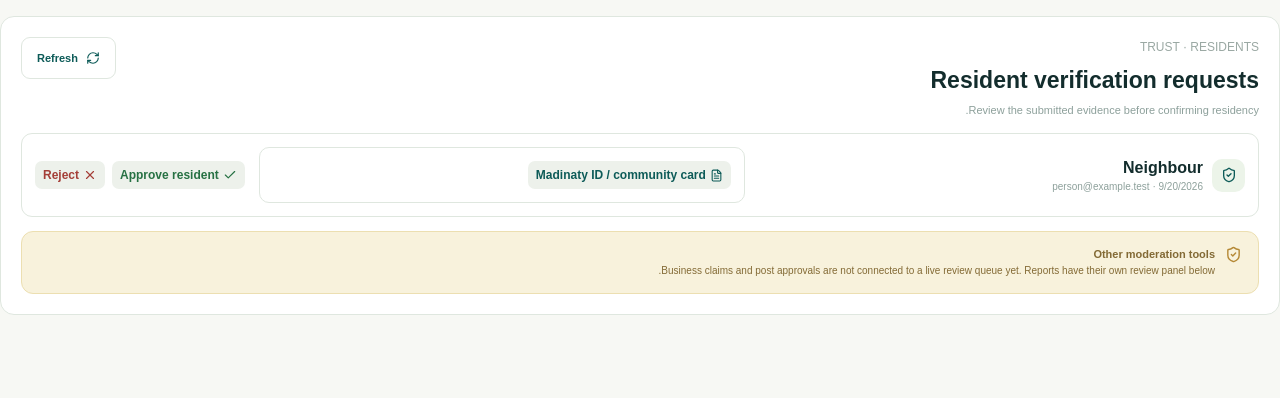
Test: admin board controls › loads pending verification requests and records a confirmed approval
Expected: the text "Neighbour" is shown, [1123,159,1203,176]
Click the button "Approve resident": (178, 175) [112,161,245,189]
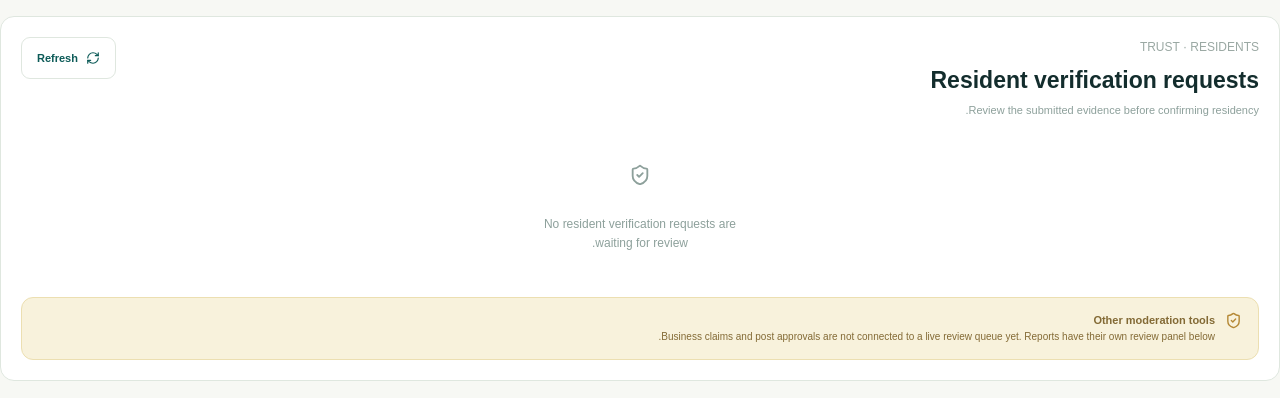
Expected: the text "No resident verification requests are waiting for review." is shown, [544,217,736,250]
